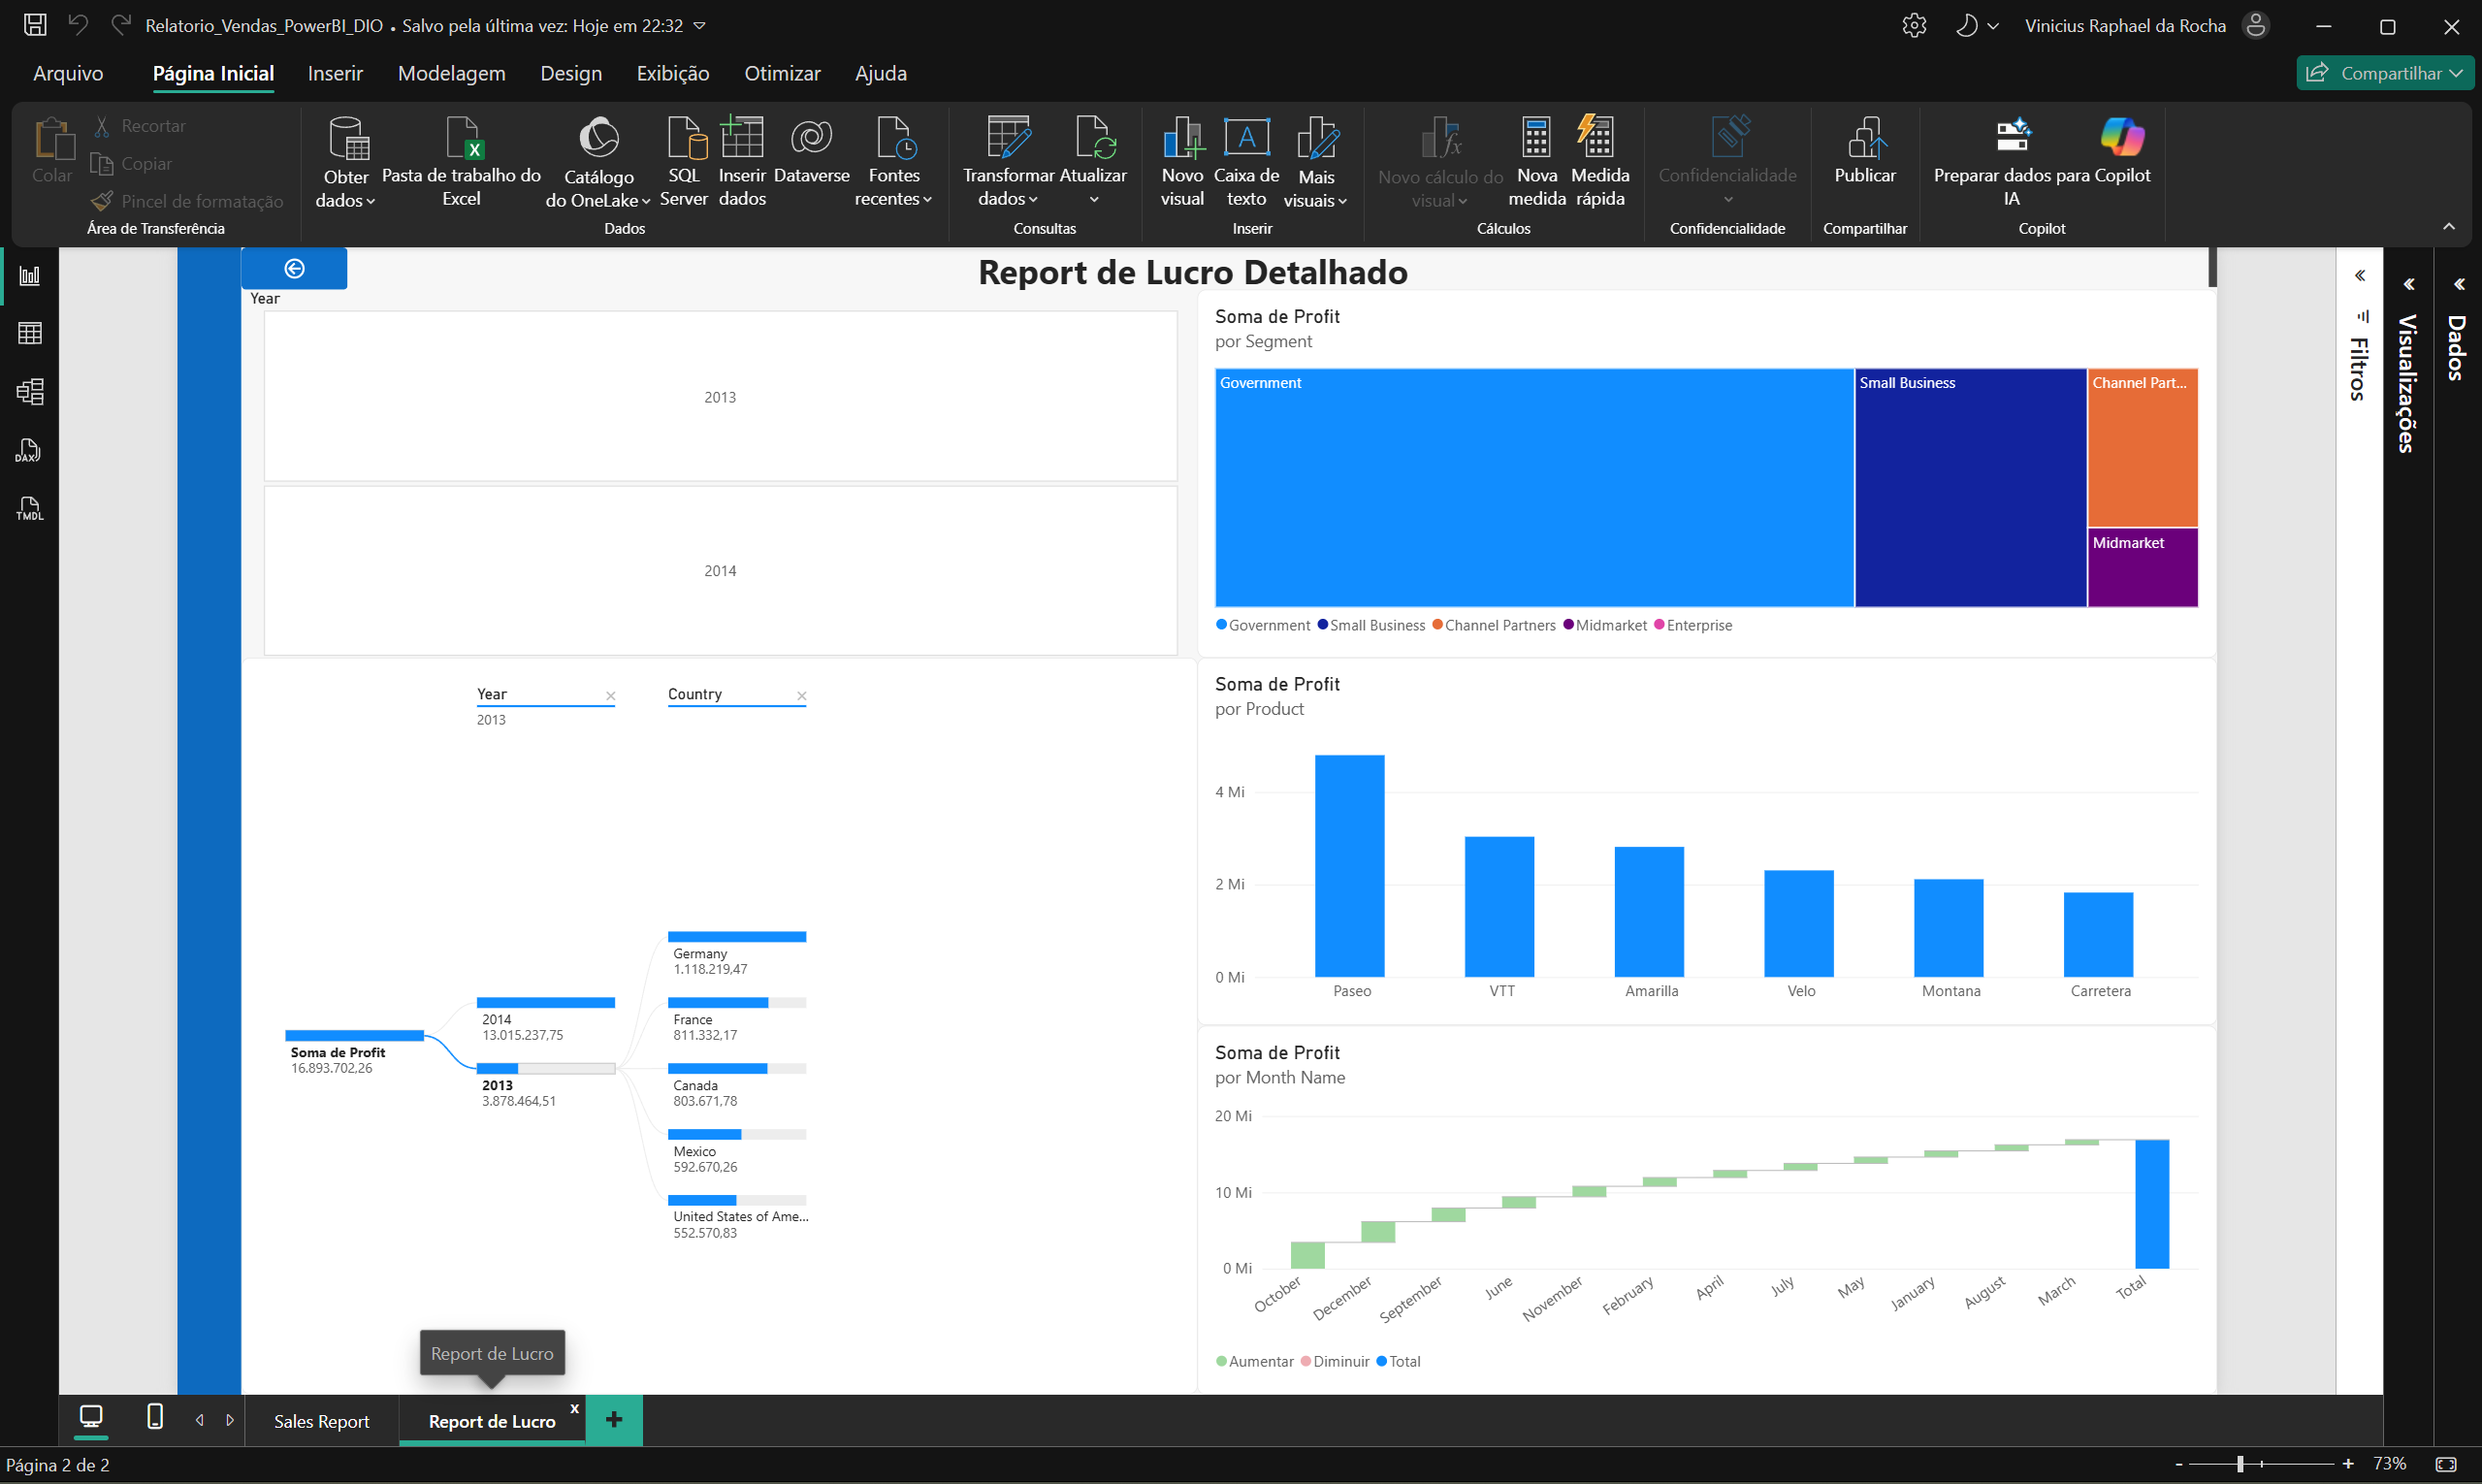

This screenshot's page, from the dashboard's own definition file:
{"tool":"powerbi","page":{"name":"Report de Lucro","canvas":[1920,1080],"ordinal":1},"visuals":[{"type":"shape","box":[0,0,60,1080],"z":0},{"type":"actionButton","box":[60,0,100,40],"z":1000},{"type":"textbox","box":[0,0,1920,40],"z":2000},{"type":"slicer","fields":{"Values":["financials.Year"]},"box":[60,40,900,346.7],"z":3000},{"type":"decompositionTreeVisual","fields":{"Analyze":["Sum(financials.Profit)"],"ExplainBy":["financials.Year","financials.Country"]},"box":[60,386.7,900,693.3],"z":4000},{"type":"treemap","fields":{"Group":["financials.Segment"],"Values":["Sum(financials.Profit)"]},"box":[960,40,960,346.7],"z":5000},{"type":"clusteredColumnChart","fields":{"Category":["financials.Product"],"Y":["Sum(financials.Profit)"]},"box":[960,386.7,960,346],"z":5001},{"type":"waterfallChart","fields":{"Category":["financials.Month Name"],"Y":["Sum(financials.Profit)"]},"box":[960,733,960,347],"z":5002}]}

Visuals, with their boxes on the page's 1920x1080 design canvas (x1, y1, x2, y2). These are canvas units, not pixel positions in the 2482x1484 screenshot, which may show the page scaled, cropped or inside an application window:
shape: (0, 0, 60, 1080)
actionButton: (60, 0, 160, 40)
textbox: (0, 0, 1920, 40)
slicer - financials.Year: (60, 40, 960, 387)
decompositionTreeVisual - Sum(financials.Profit) x financials.Year: (60, 387, 960, 1080)
treemap - financials.Segment x Sum(financials.Profit): (960, 40, 1920, 387)
clusteredColumnChart - financials.Product x Sum(financials.Profit): (960, 387, 1920, 733)
waterfallChart - financials.Month Name x Sum(financials.Profit): (960, 733, 1920, 1080)
